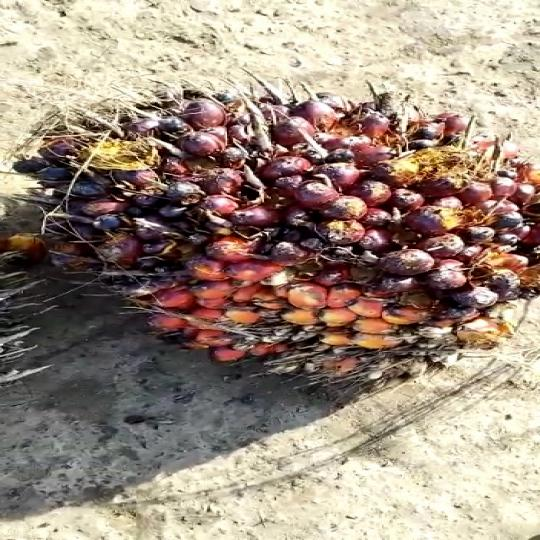masak: (16, 84, 540, 398)
